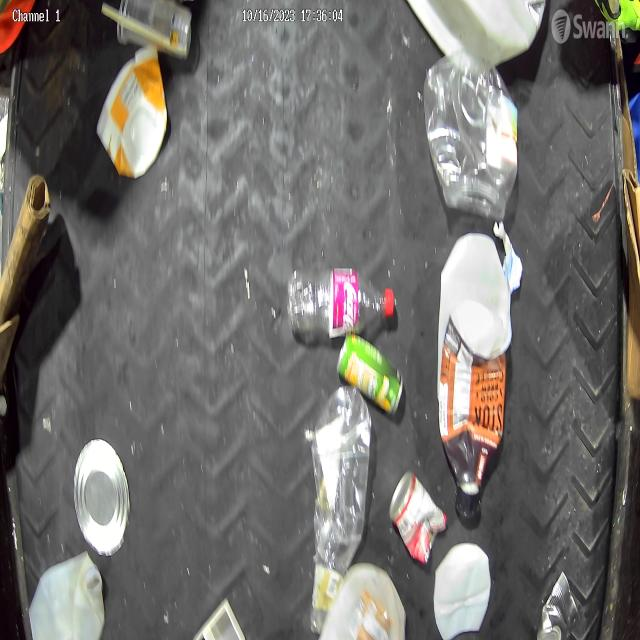can: (336, 336, 405, 412), (391, 472, 442, 557)
plastic_bottle: (311, 383, 369, 571), (292, 260, 394, 342)
